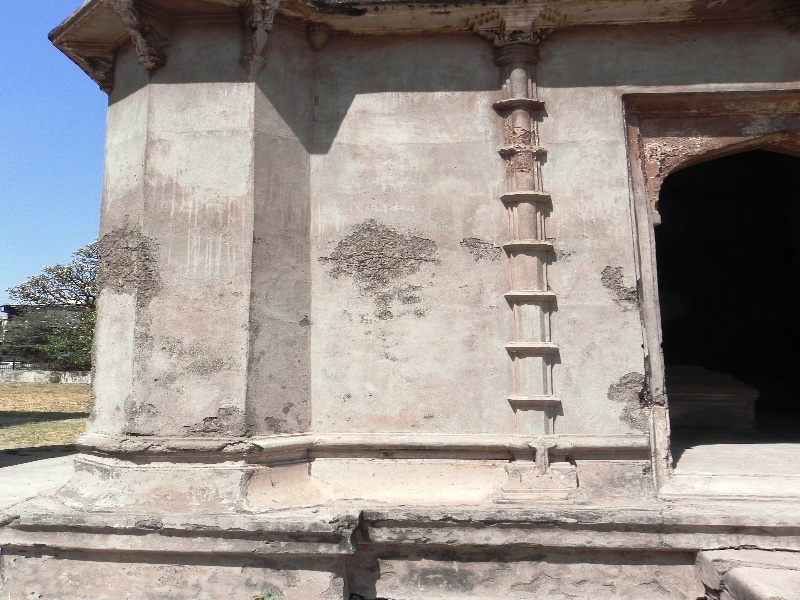Spalling: (327, 220, 437, 305), (97, 224, 164, 305), (186, 402, 262, 460), (610, 360, 661, 420), (599, 260, 645, 320)
